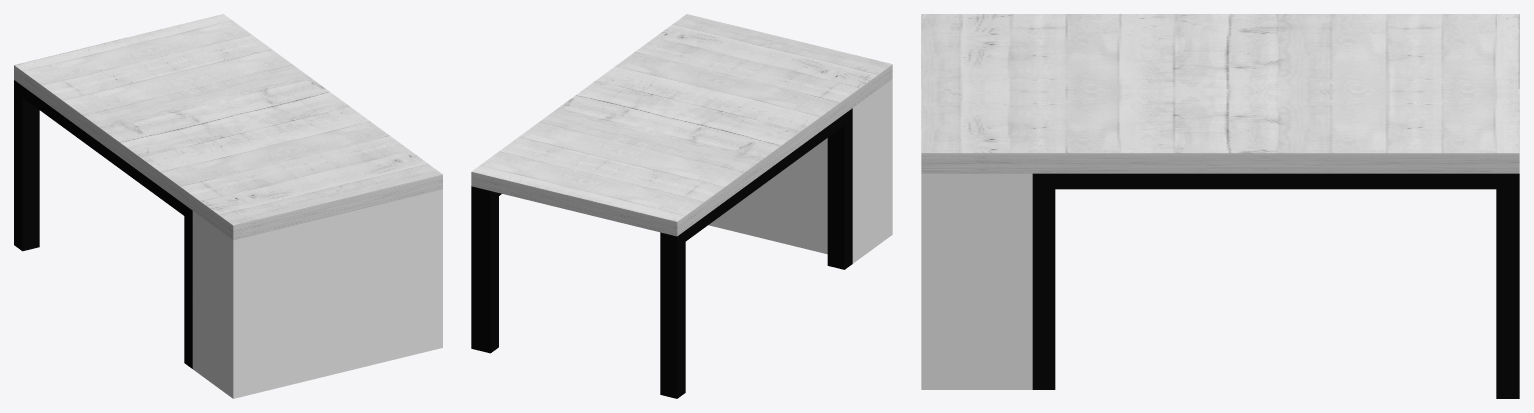
The model's file is Judges Table .FBX.
3 views of the same model, side by side, from view 1: azimuth 30°, elevation 25°; view 2: azimuth 150°, elevation 25°; view 3: azimuth 270°, elevation 25° (orthographic). The views are drawn at different scales.
Visible parts, largest first — view 1: Box001; view 2: Box001; view 3: Box001.
Part boxes in pixels (bbox=[...]): Box001: bbox=[14, 14, 442, 398]; Box001: bbox=[471, 14, 892, 398]; Box001: bbox=[921, 14, 1519, 398].
Bounding box in the file's own units: 60.5 × 49.65 × 110.
3 materials, 1 textured.
